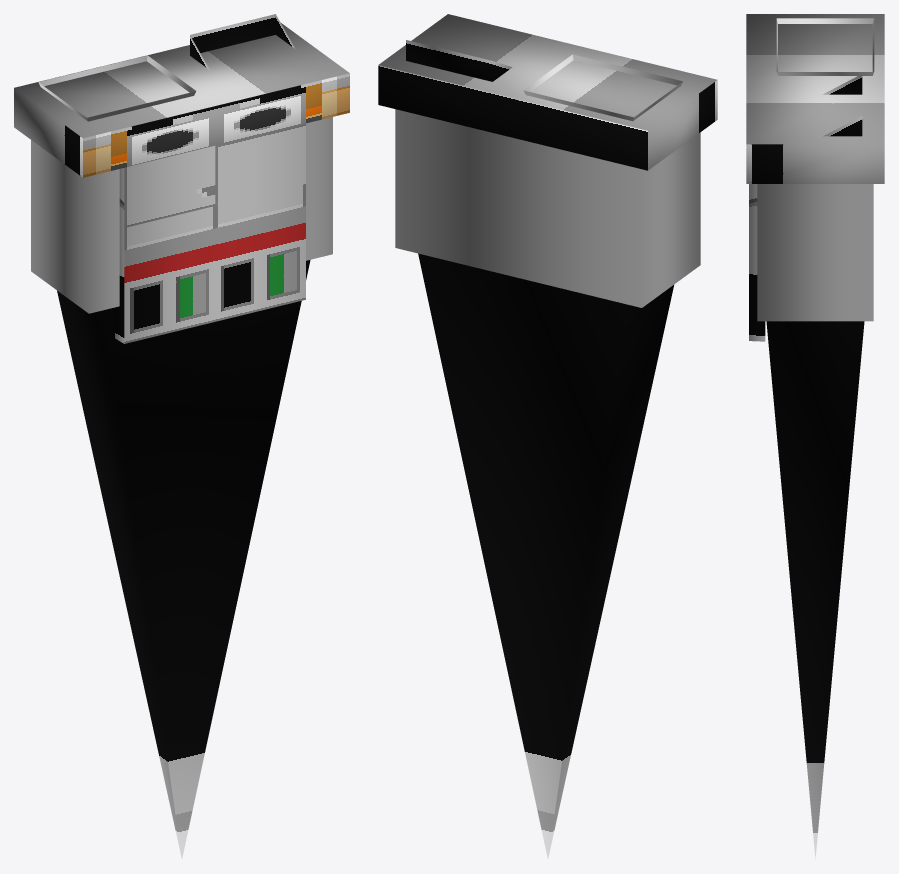
The picture shows the model from 3 angles, left to right: view 1: azimuth 30°, elevation 25°; view 2: azimuth 150°, elevation 25°; view 3: azimuth 270°, elevation 25°; orthographic projection.
Parts seen in each view (by area): view 1: 3366kg_sh2_07; view 2: 3366kg_sh2_07; view 3: 3366kg_sh2_07.
Part boxes in pixels (x1=…): 3366kg_sh2_07: x1=14, y1=14, x2=349, y2=858; 3366kg_sh2_07: x1=378, y1=14, x2=717, y2=858; 3366kg_sh2_07: x1=746, y1=14, x2=884, y2=859.
Size of the model in its own units: 1.56 by 4.48 by 0.7001.
Materials: 1 (1 with a texture image).
